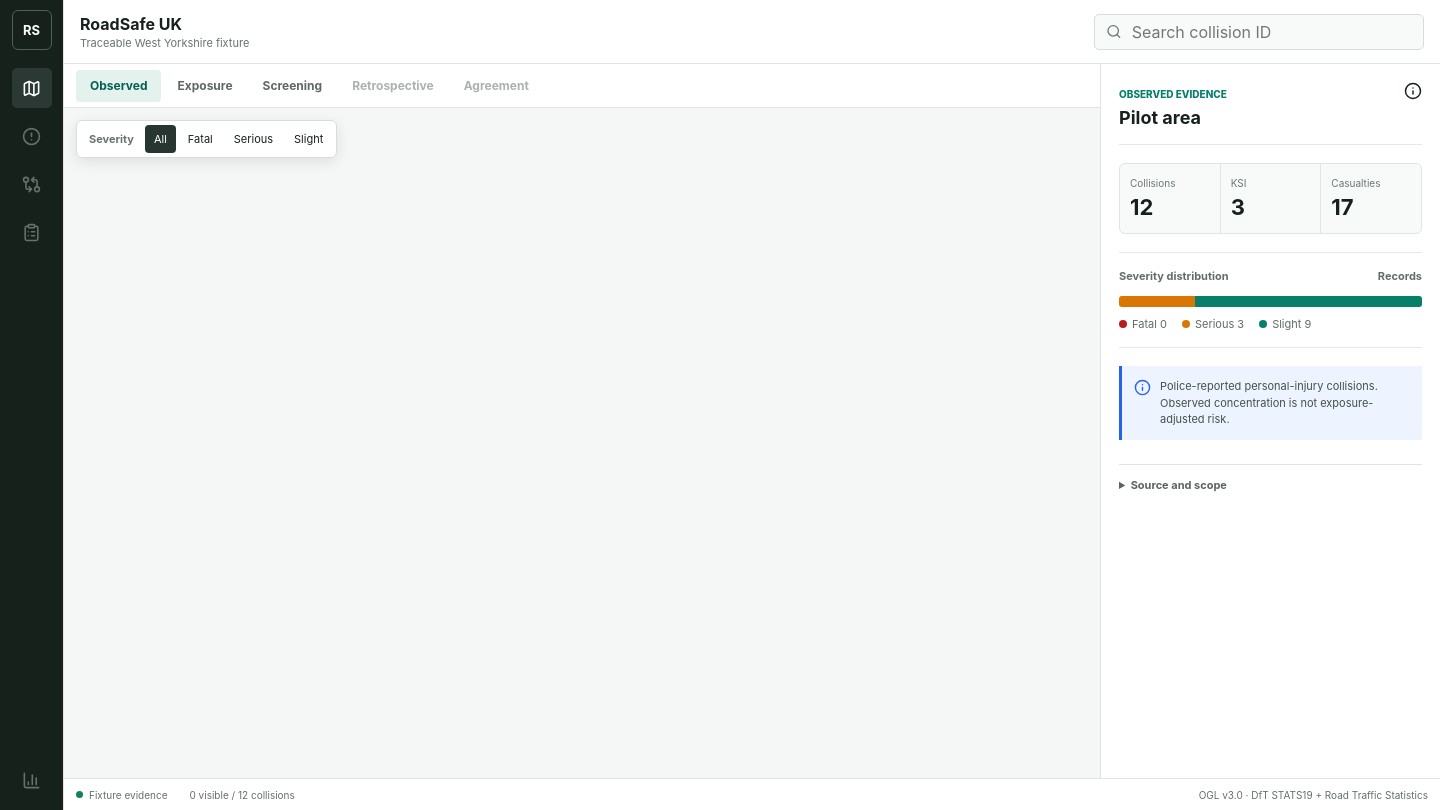
Test: mismatched response identity fails closed and a retry can recover
Check: the text "Fixture evidence" is shown, box [76, 788, 168, 800]
Click the button "Exposure" at point(205, 86), box [164, 70, 247, 102]
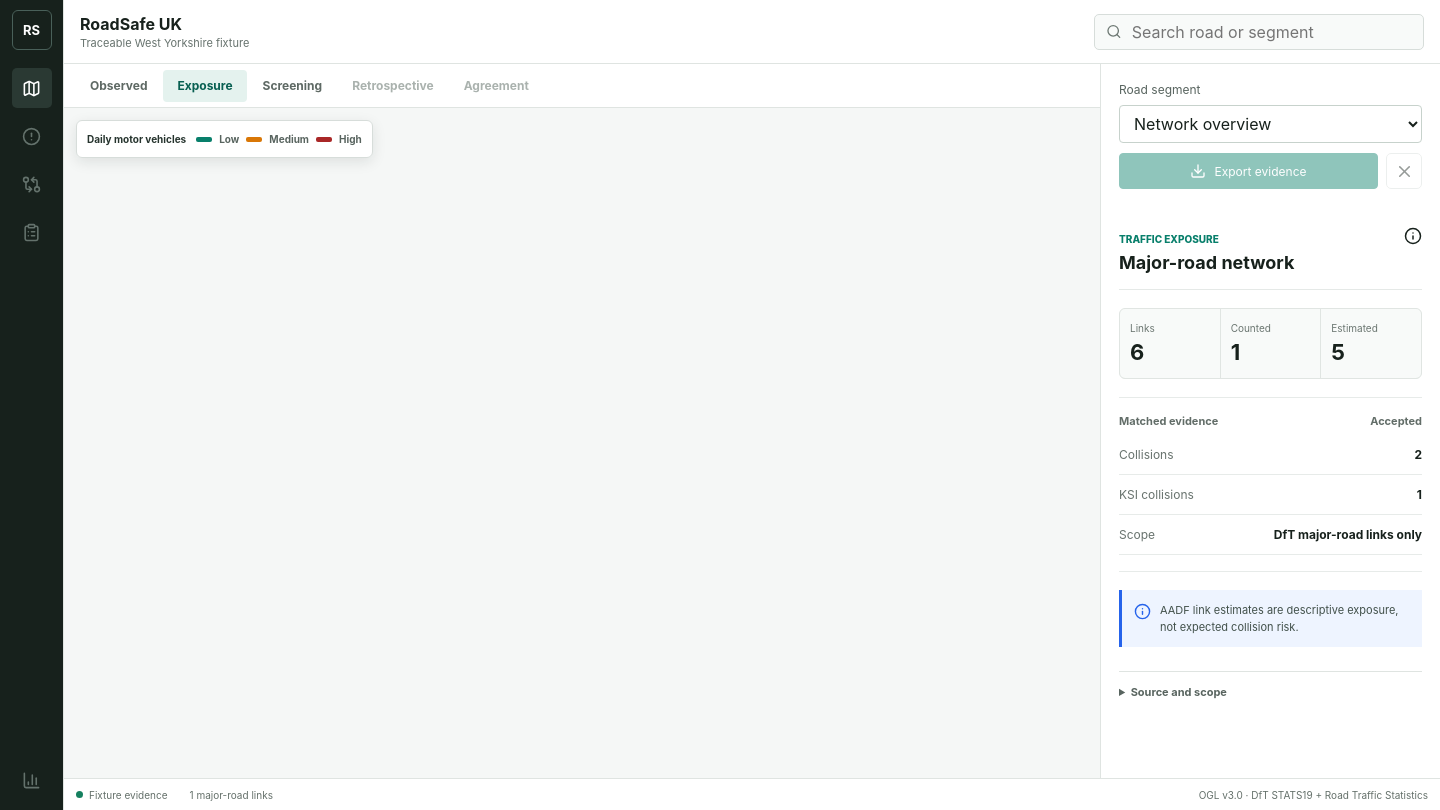
Select "A1 · 1" in the dropdown labelled "Road segment" at point(1270, 124), box [1119, 105, 1422, 143]
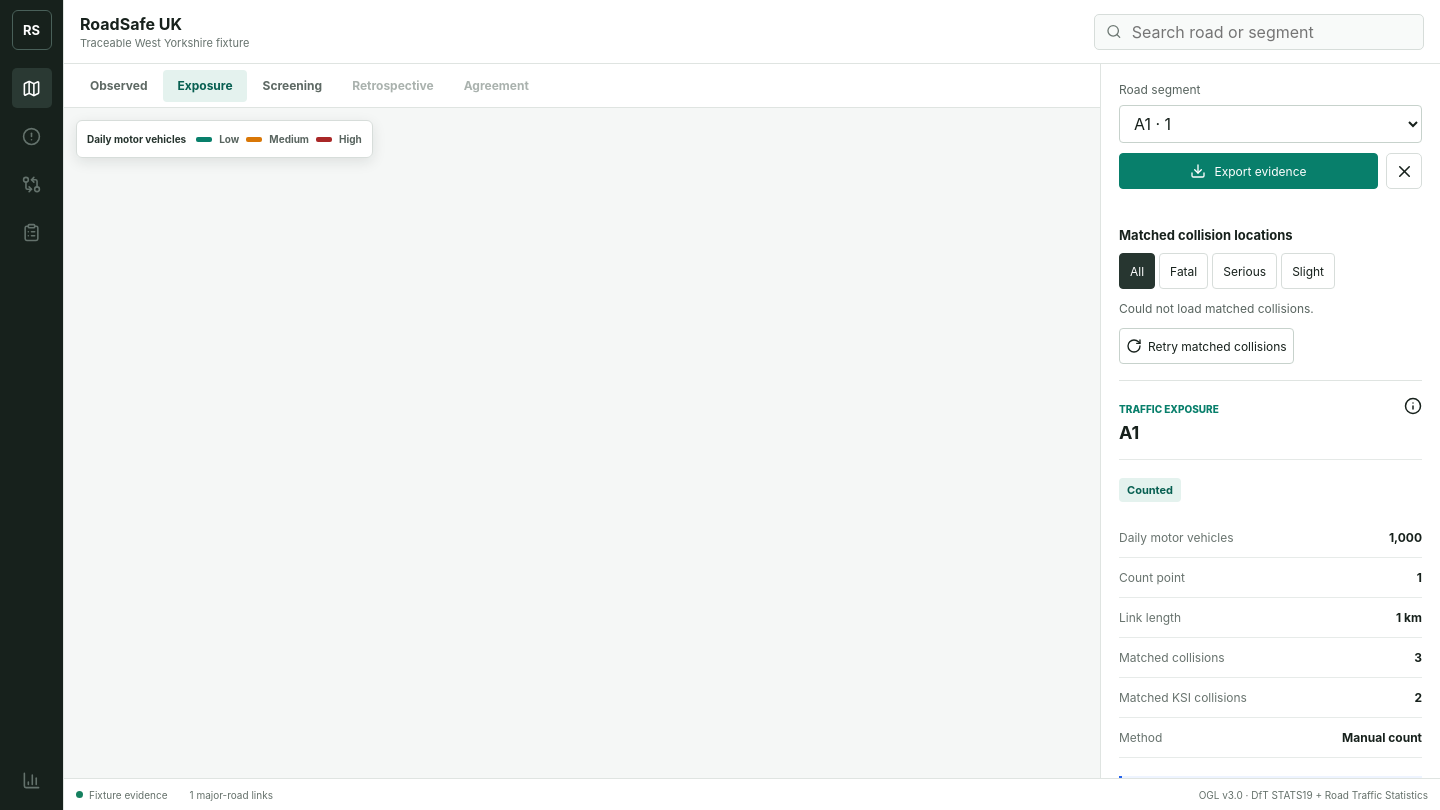
Check: the text "Could not load matched collisions." is shown, box [1119, 301, 1314, 316]
Click the button "Retry matched collisions" at point(1206, 346), box [1119, 328, 1294, 364]
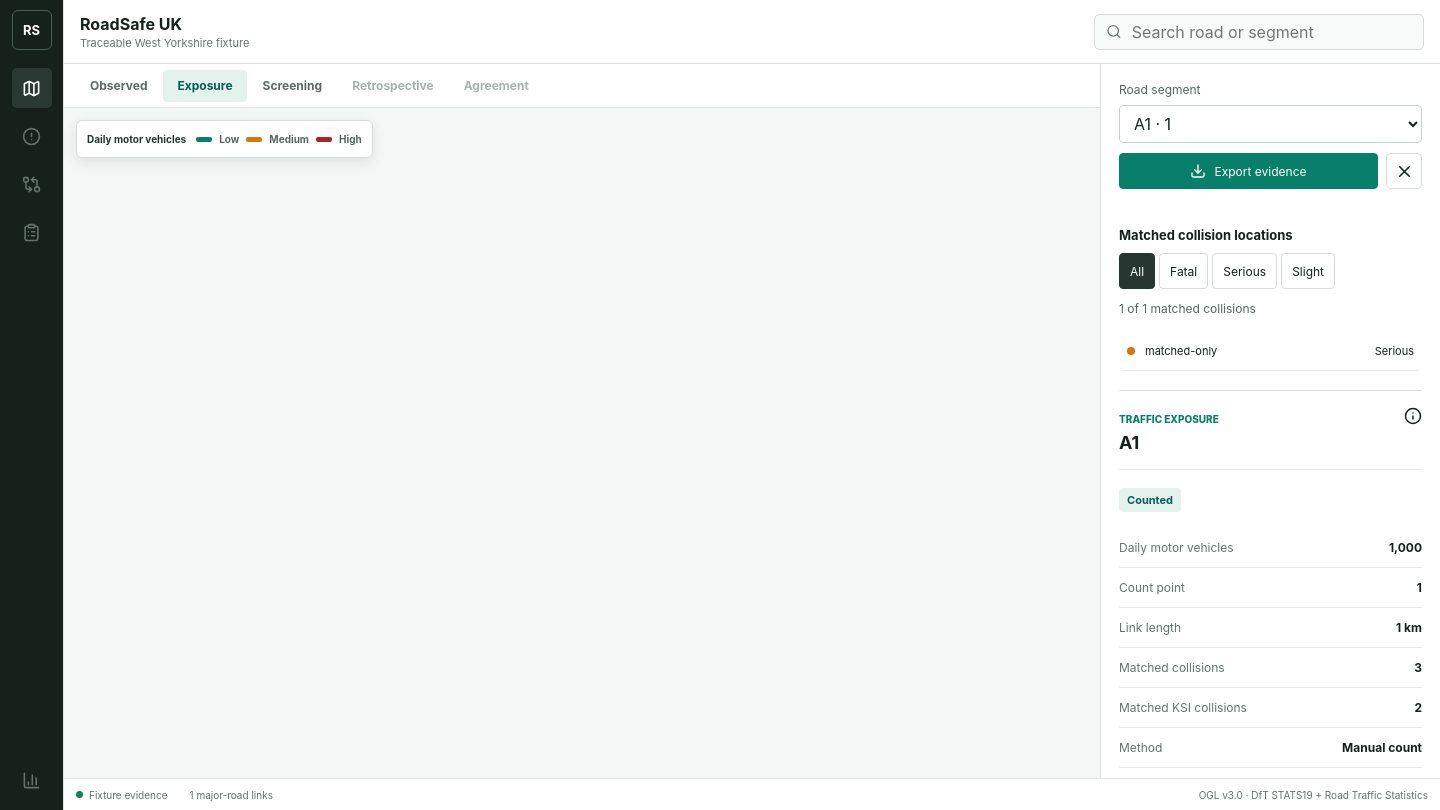
Check: the button "matched-only Serious" is shown, box [1122, 331, 1419, 371]
